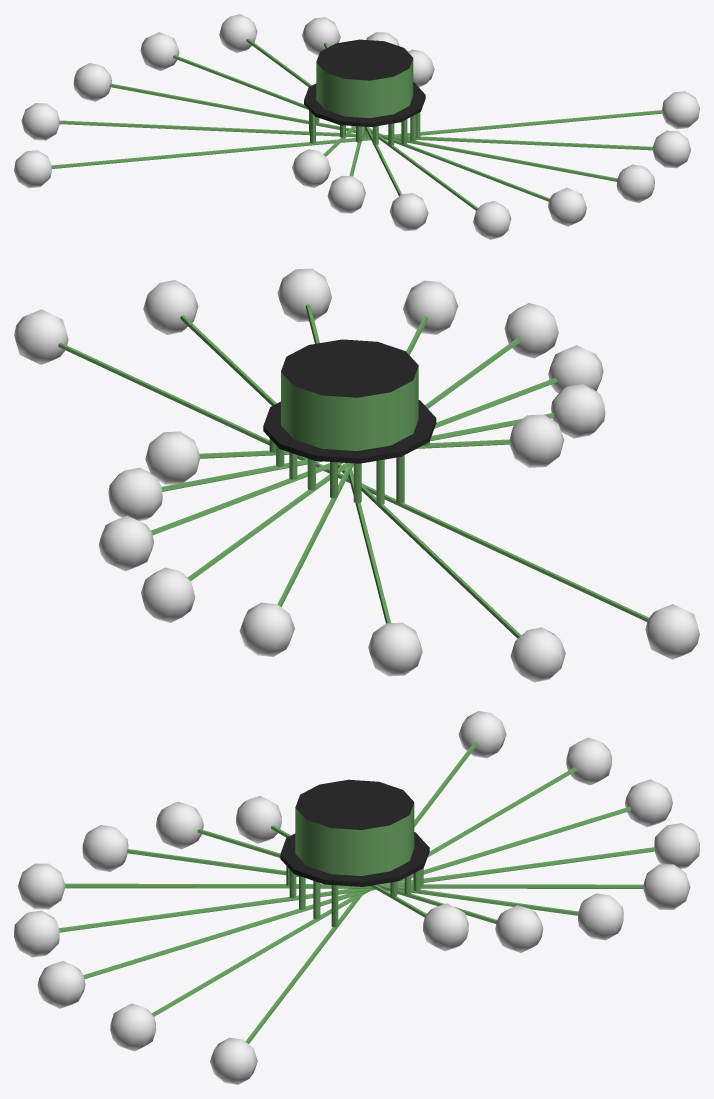
Rendered from LightTopDesign01.FBX.
3 views of the same model, one above another, from view 1: azimuth 30°, elevation 25°; view 2: azimuth 150°, elevation 25°; view 3: azimuth 270°, elevation 25° (orthographic). The views are drawn at different scales.
Visible parts, largest first — view 1: LightTopDesign01; view 2: LightTopDesign01; view 3: LightTopDesign01.
Boxes of the visible parts, x1,y1,x2,y2 form: LightTopDesign01: [14, 14, 699, 239]; LightTopDesign01: [14, 268, 699, 682]; LightTopDesign01: [14, 711, 699, 1084].
Bounding box in the file's own units: 3414 × 537 × 2861.
